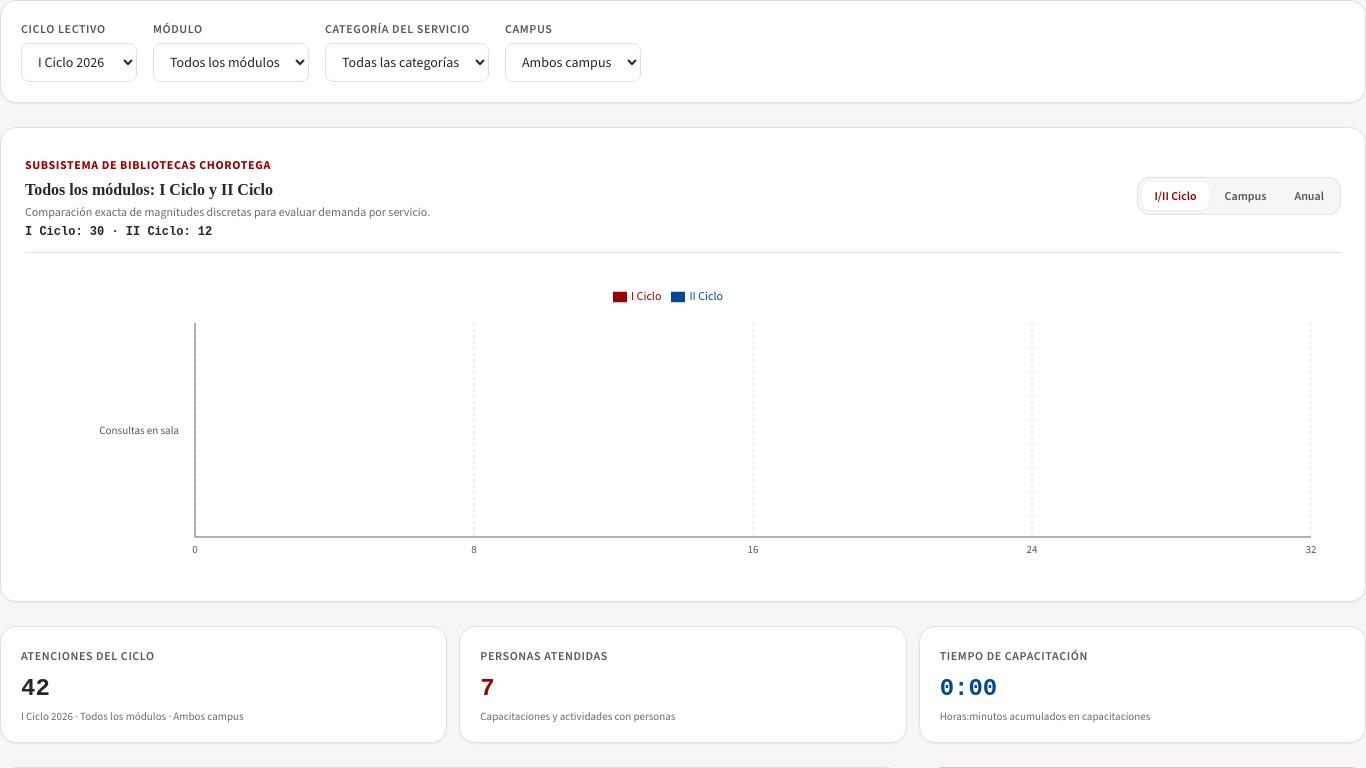
Test: DashboardCharts (filtros, textos y datos de gráficos) › en modo anual el Total del Módulo muestra el acumulado de todos los años
This screenshot has width=1366, height=768.
Expected: the text "Atenciones del Ciclo" is shown, [21,648,155,664]
// Selecciono módulo para que aparezca el panel "Total del Módulo".
Step 1. Select "Servicios" in the 2nd dropdown → x=231, y=62, box [153,43,309,82]
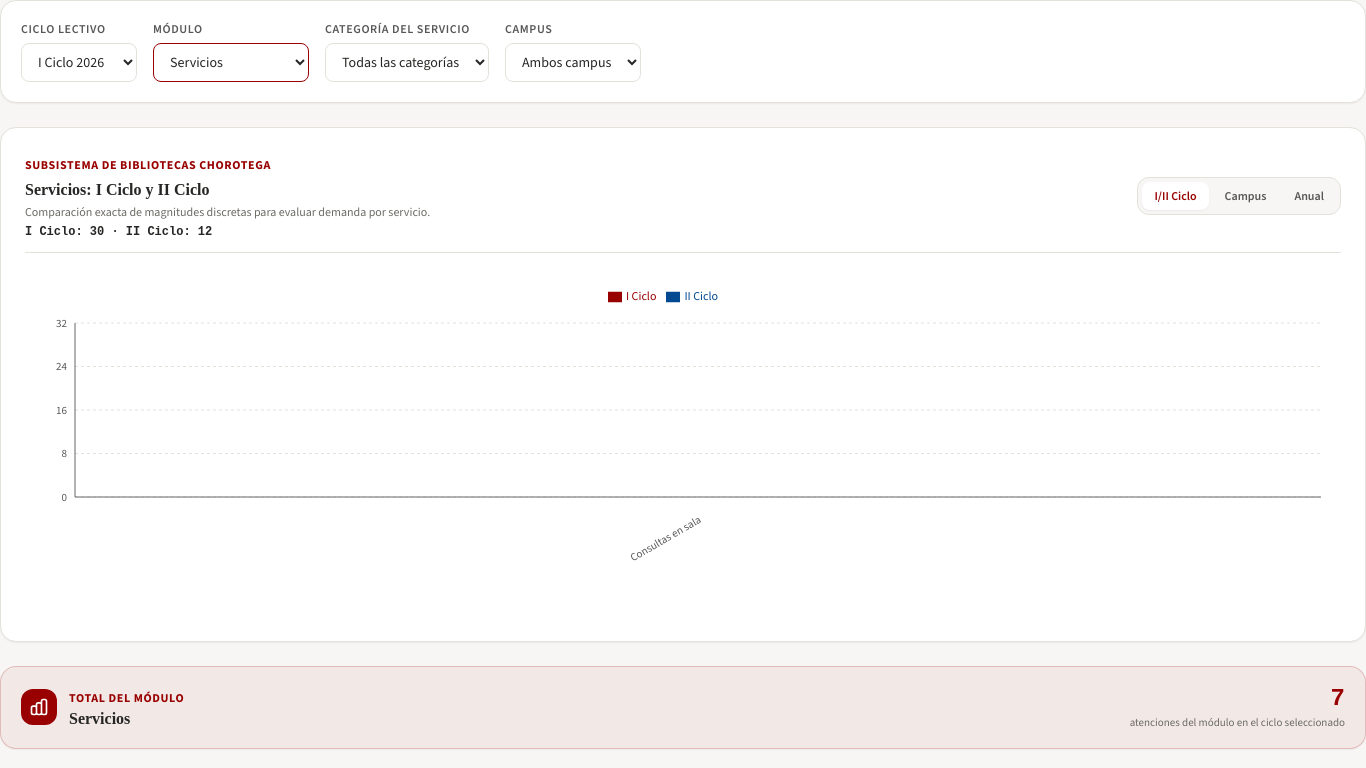
Result: the text "atenciones del módulo en el ciclo seleccionado" is shown at [1130,715,1345,732]
Step 2. Click the button "Anual" → x=1309, y=196, box [1282,182,1336,210]
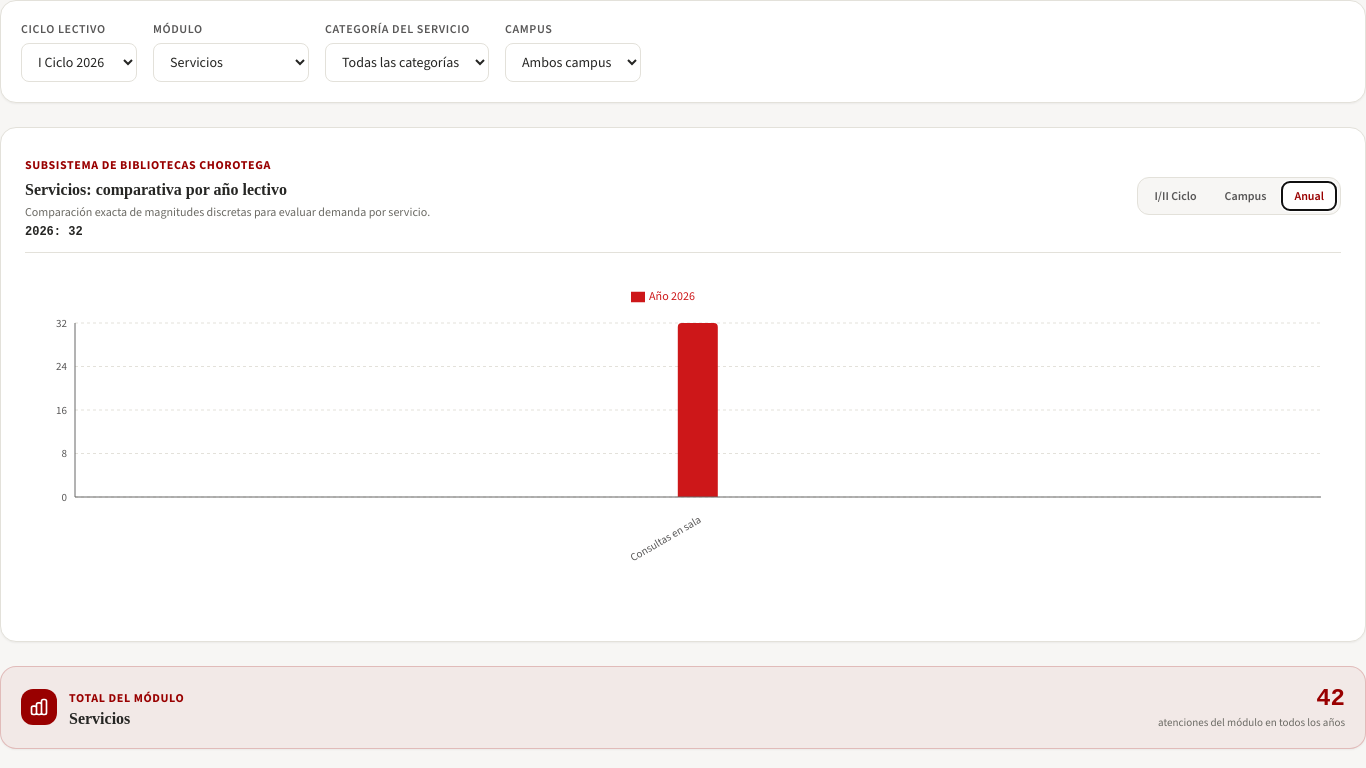
Result: the text "atenciones del módulo en todos los años" is shown at [1158,715,1345,732]
Result: the text "42" is shown at [1316,685,1345,712]
